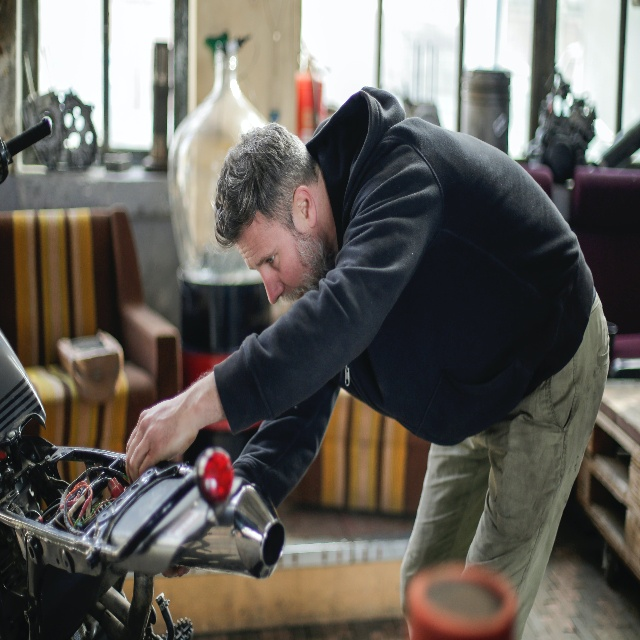Sin_guantes: (123, 392, 198, 475)
